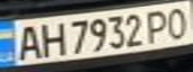2: (124, 10, 148, 47)
3: (106, 11, 127, 50)
7: (66, 17, 90, 55)
9: (87, 16, 109, 53)
A: (9, 21, 45, 61)
H: (36, 19, 66, 57)
O: (163, 5, 193, 39)
P: (142, 7, 172, 44)
